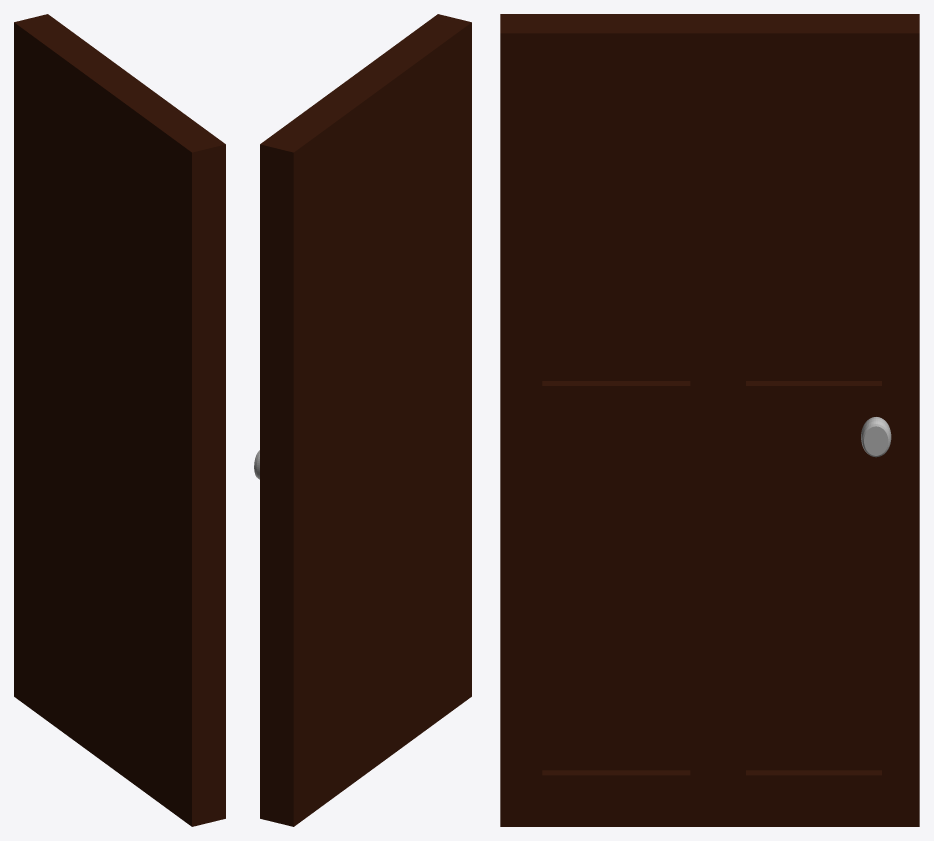
File: door.dae
The picture shows the model from 3 angles, left to right: view 1: azimuth 30°, elevation 25°; view 2: azimuth 150°, elevation 25°; view 3: azimuth 270°, elevation 25°; orthographic projection. The views are drawn at different scales.
Parts seen in each view (by area): view 1: Cube; view 2: Cube; view 3: Cube, Torus.
Boxes of the visible parts, x1,y1,x2,y2 form: Cube: (14, 14, 225, 826); Cube: (260, 14, 471, 826); Cube: (500, 14, 919, 826); Torus: (861, 417, 891, 457).
Size of the model in its own units: 0.6093 by 3.55 by 7.41.
